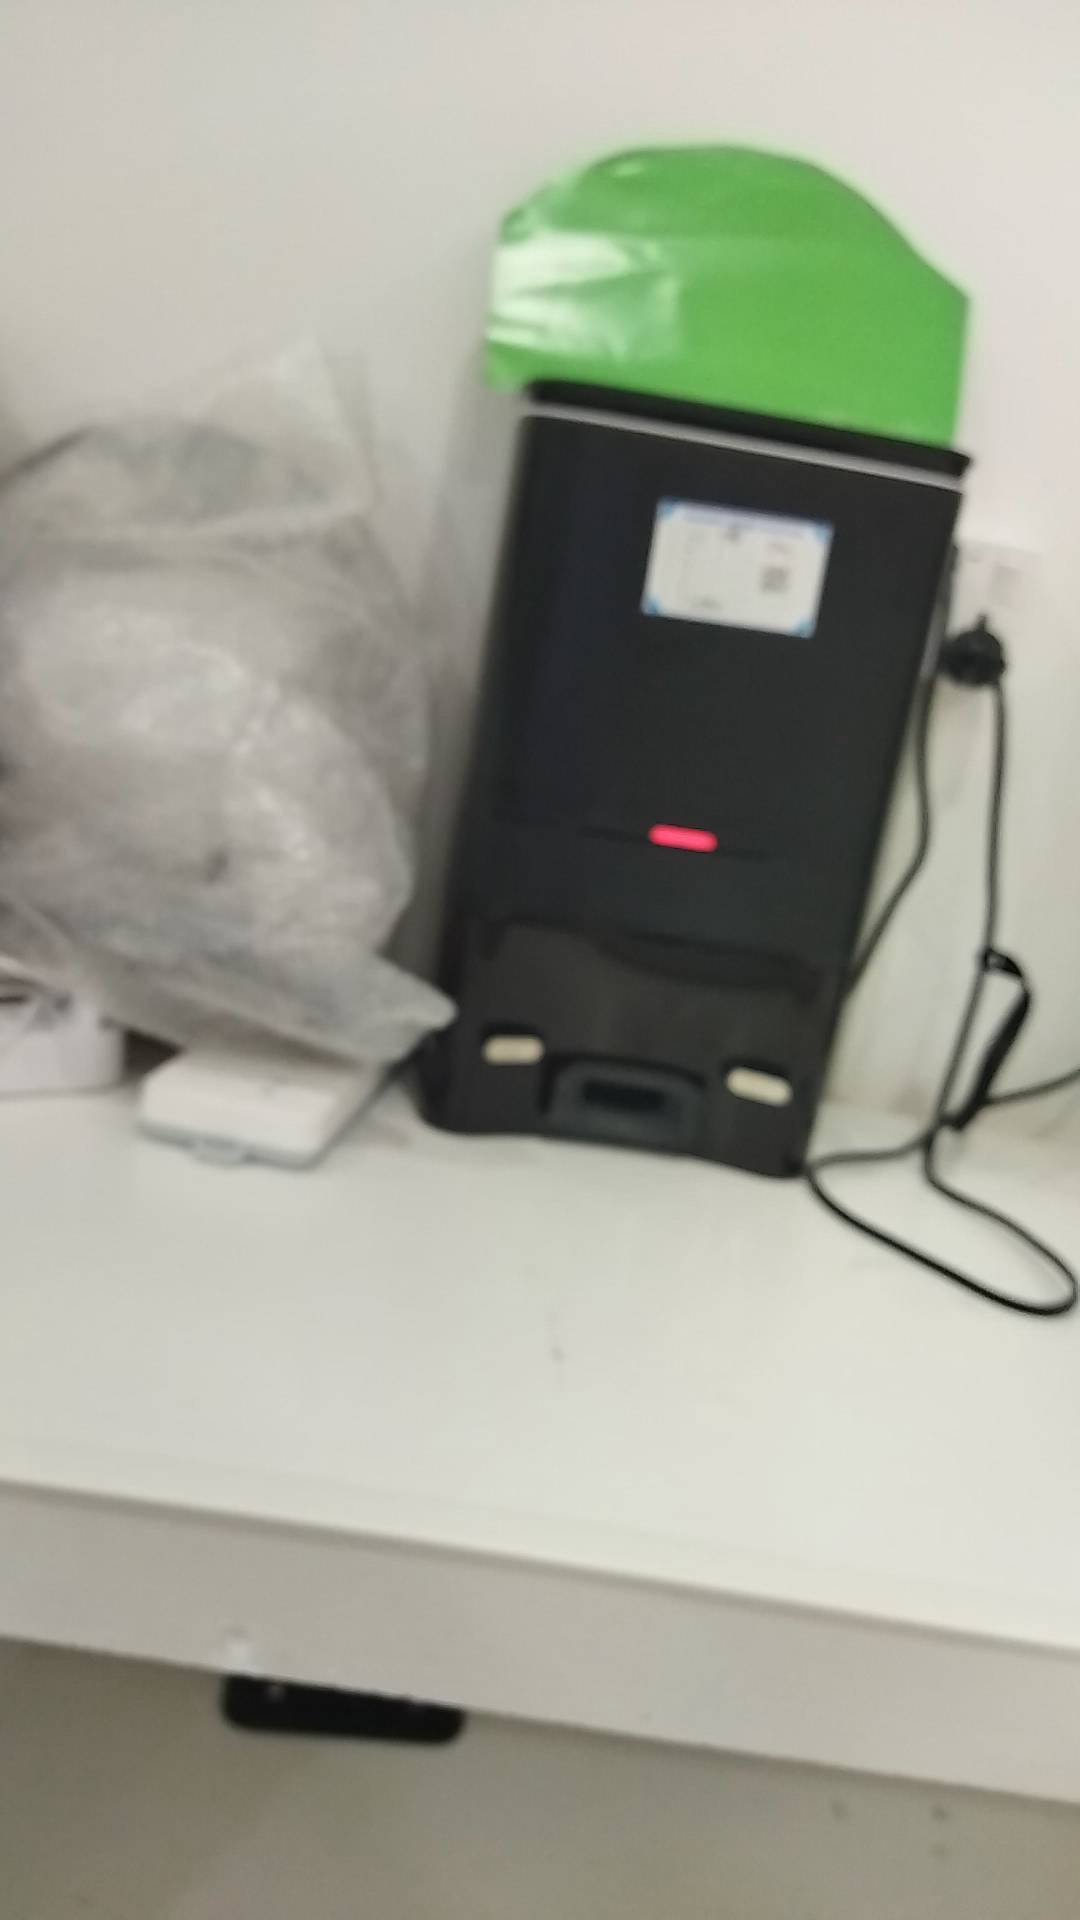dust collecting barrel: (426, 376, 985, 1178)
